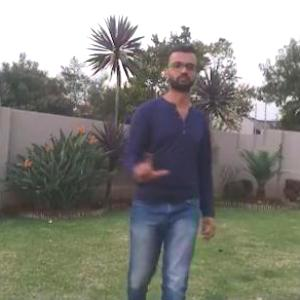land_hand: (130, 148, 169, 183)
